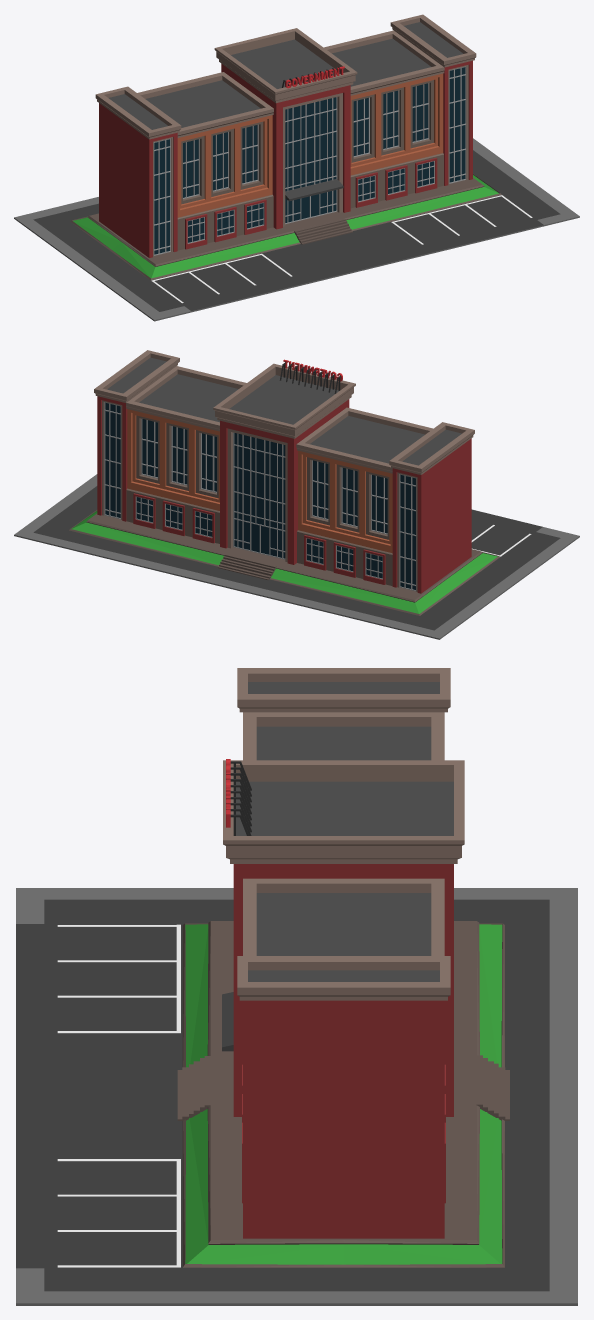
Rendered from government.glb.
The picture shows the model from 3 angles, top to bottom: view 1: azimuth 30°, elevation 25°; view 2: azimuth 150°, elevation 25°; view 3: azimuth 270°, elevation 25°; orthographic projection. The views are drawn at different scales.
Parts seen in each view (by area): view 1: government_a; view 2: government_a; view 3: government_a.
Part boxes in pixels (x1,y1,x2,y2): government_a: [14, 14, 579, 321]; government_a: [14, 350, 579, 639]; government_a: [16, 668, 577, 1305].
Bounding box in the file's own units: 35 × 12.32 × 20.
1 material, 1 textured.
